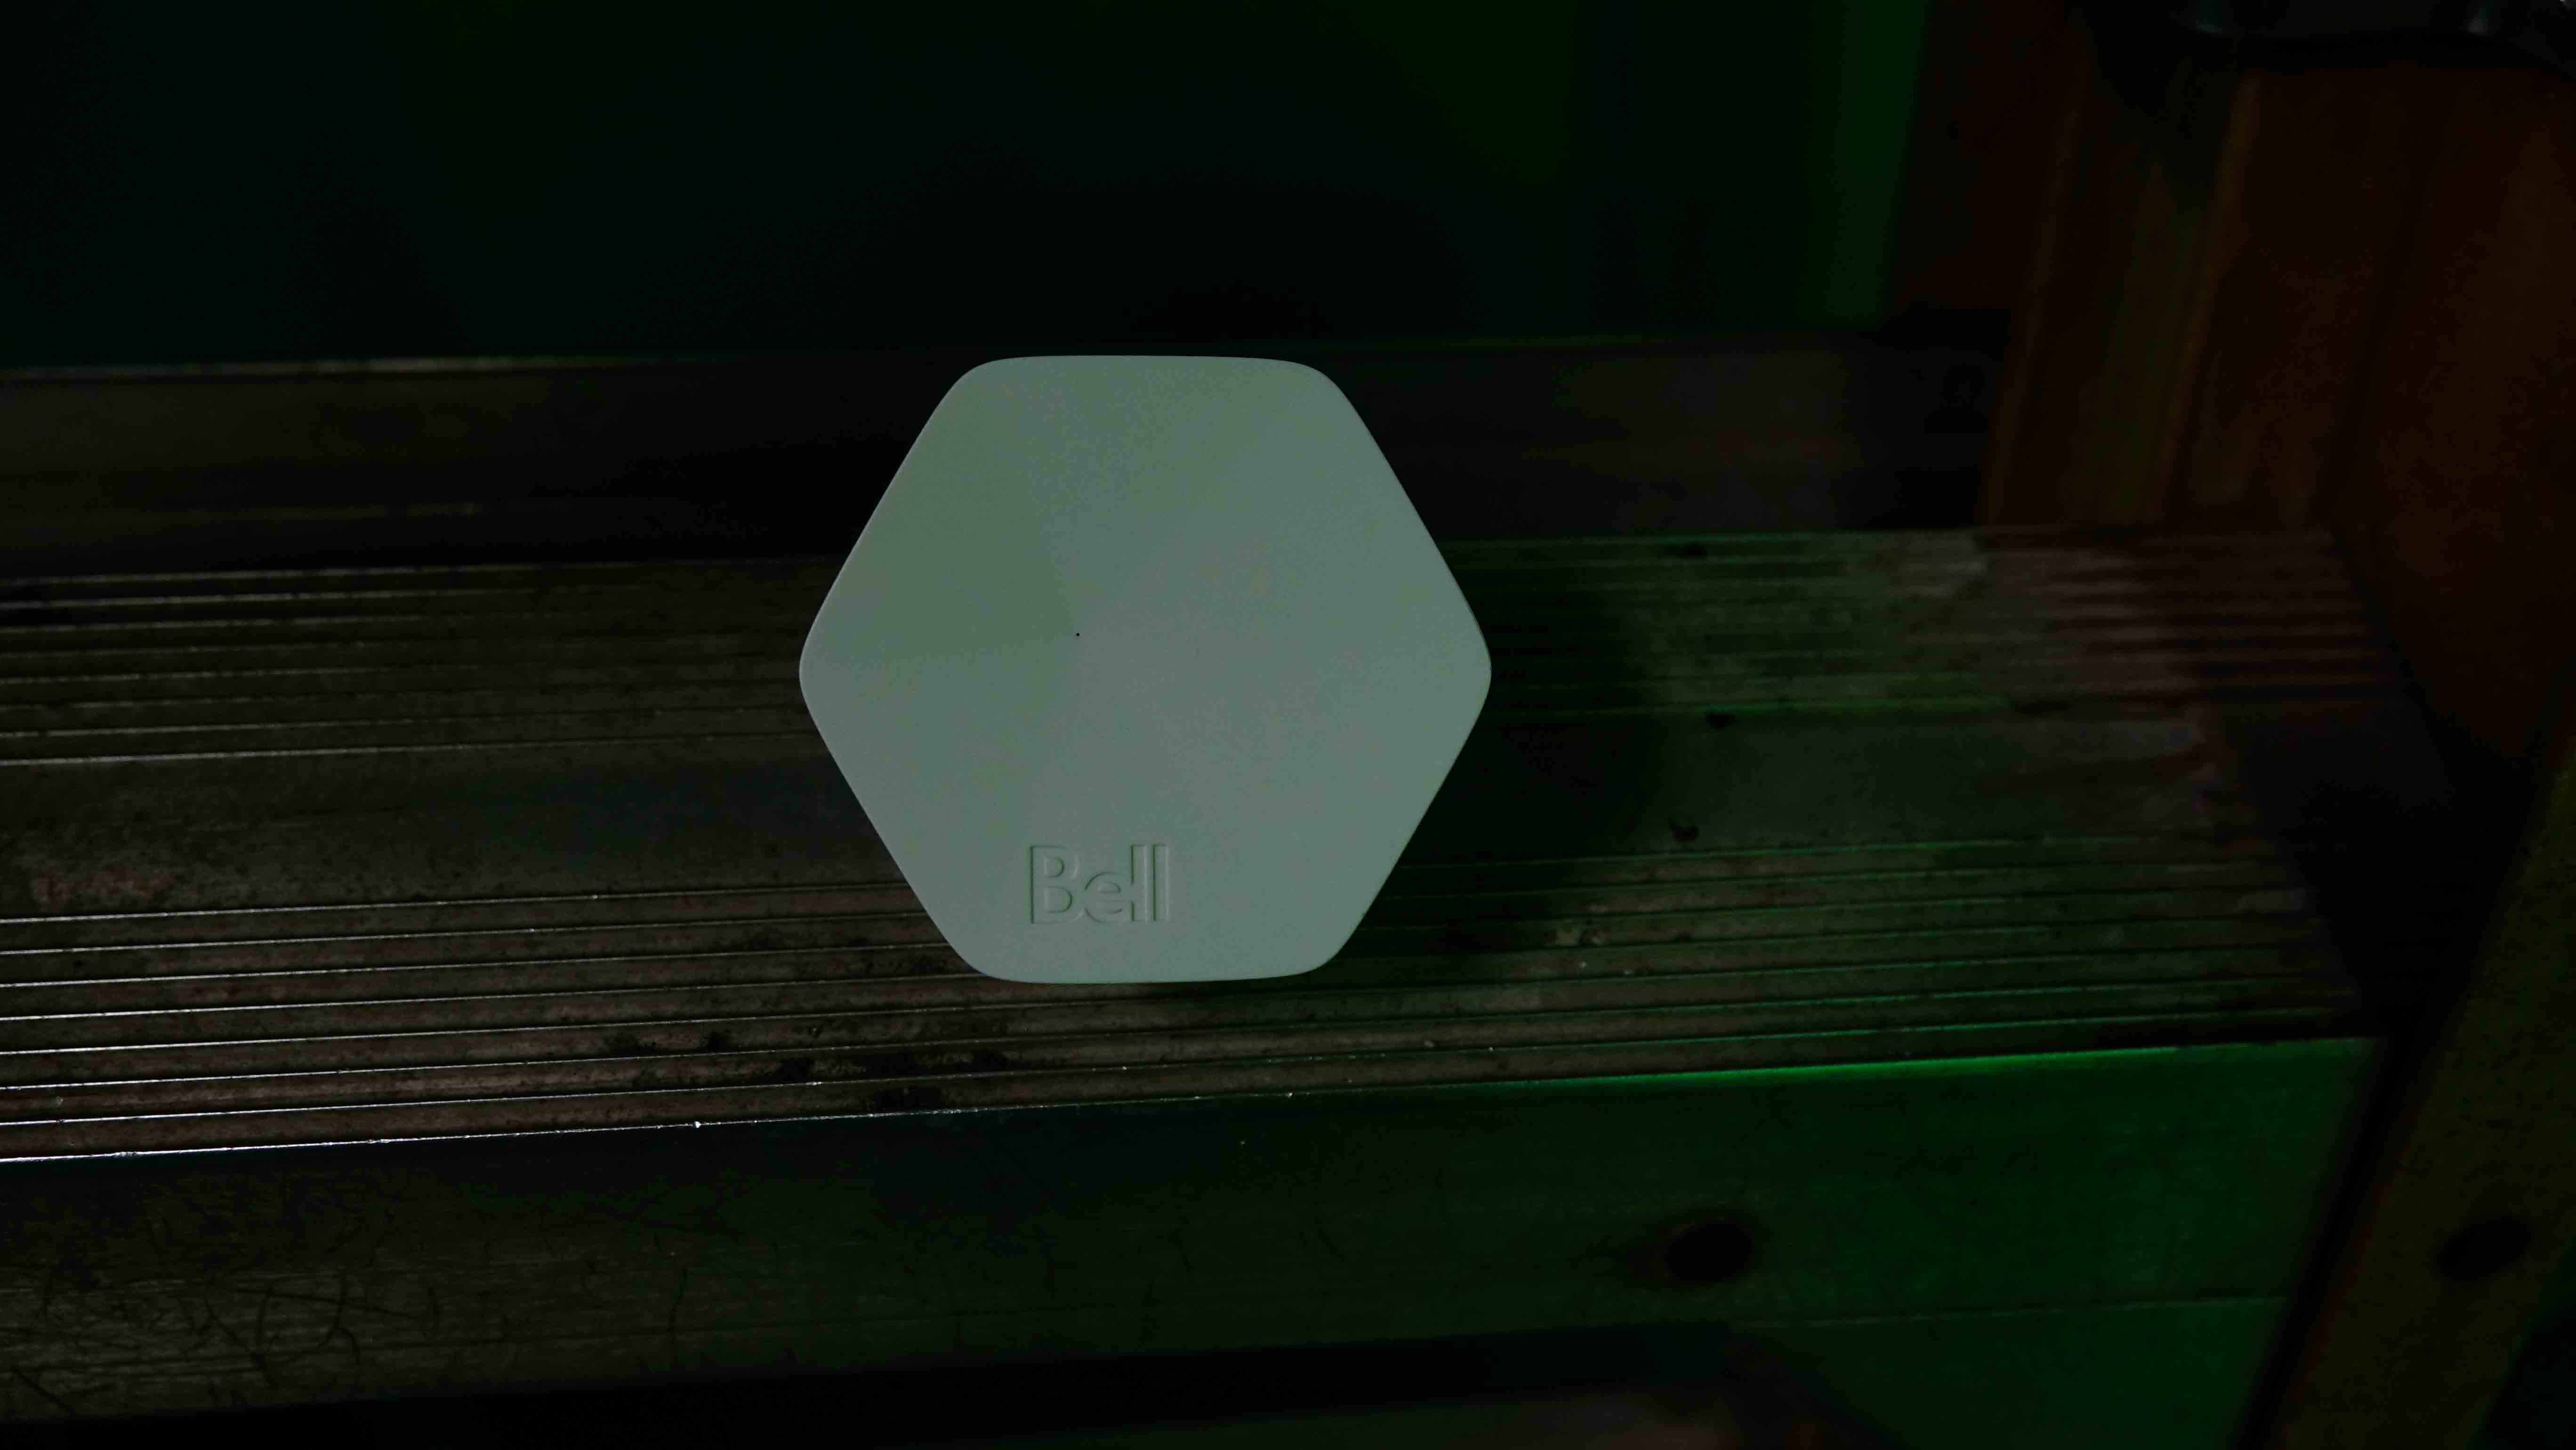pod: (768, 345, 1511, 1001)
